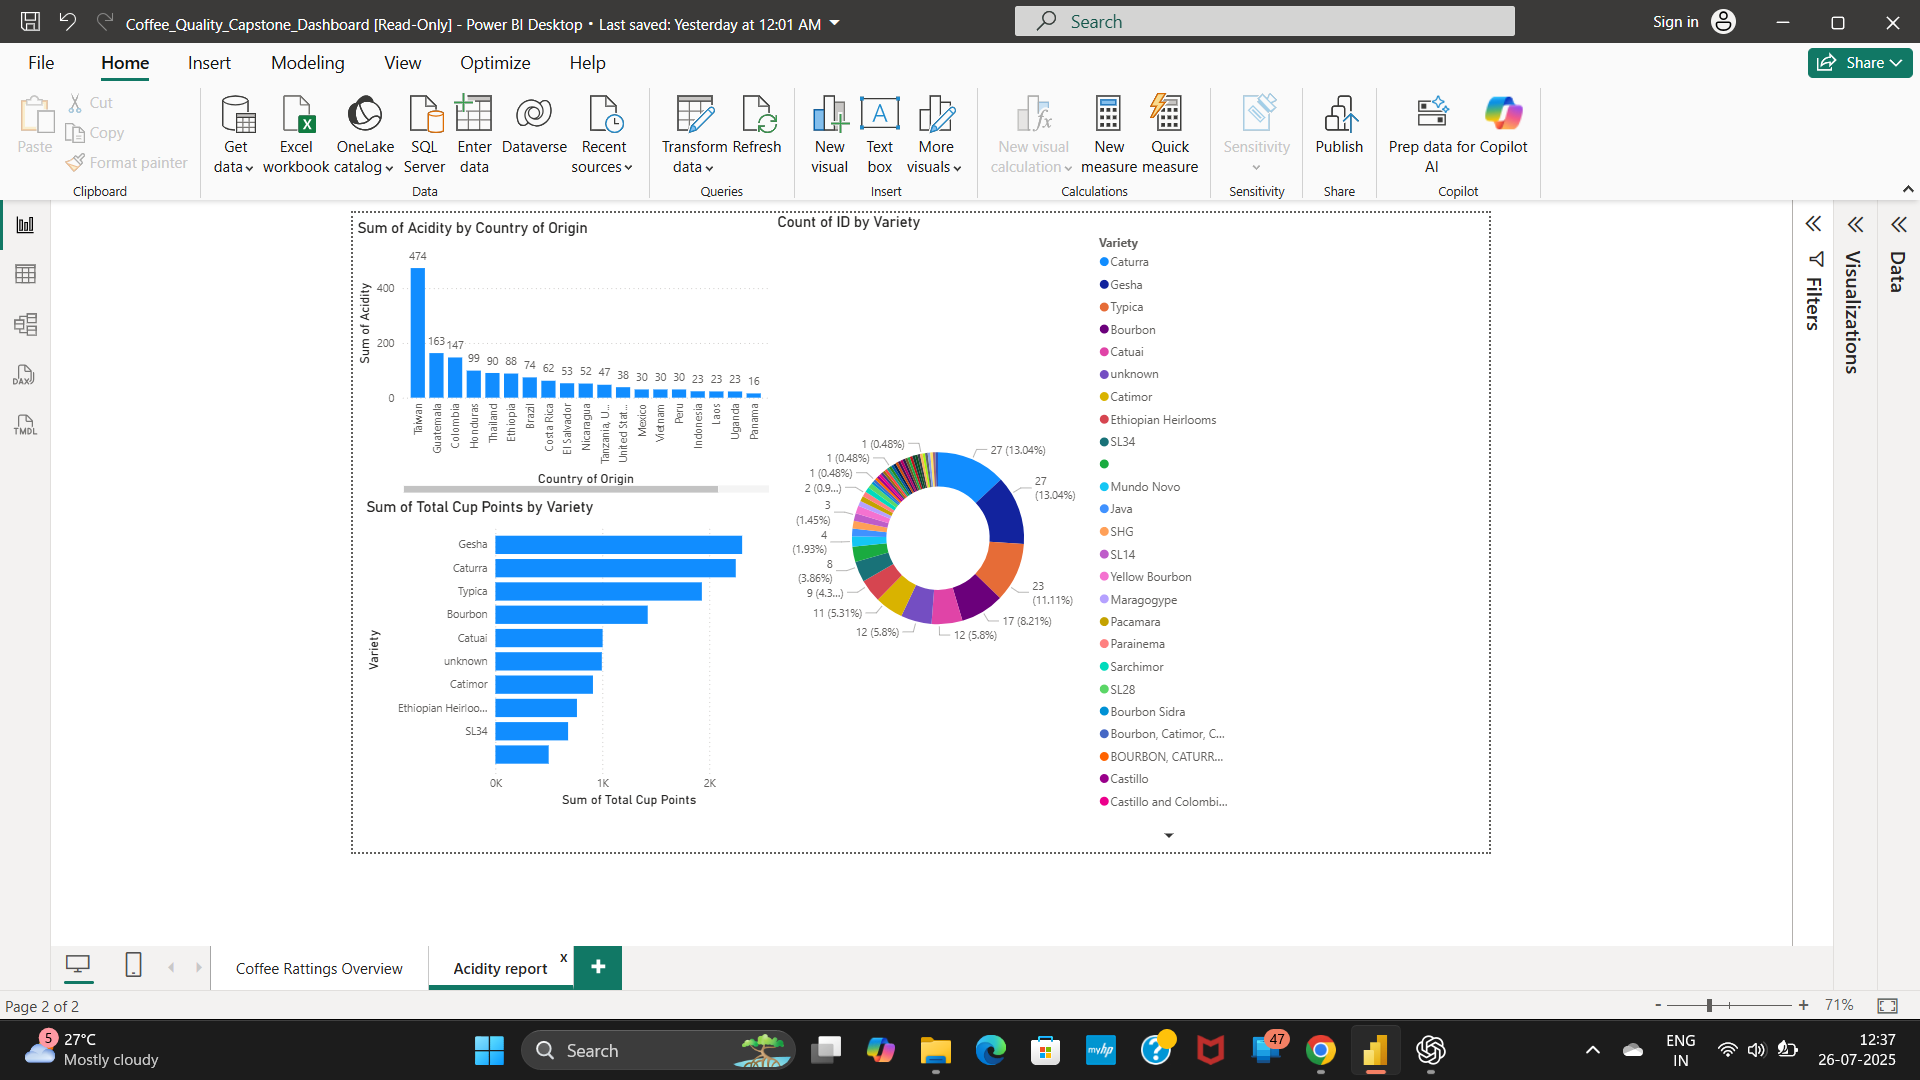

This screenshot's page, from the dashboard's own definition file:
{"tool":"powerbi","page":{"name":"Acidity report","canvas":[1280,720],"ordinal":1},"visuals":[{"type":"barChart","fields":{"Y":["Sum(df_arabica_clean.Total Cup Points)"],"Category":["df_arabica_clean.Variety"]},"box":[9.8,320.7,464.1,353.3],"z":0},{"type":"clusteredColumnChart","fields":{"Category":["df_arabica_clean.Country of Origin"],"Y":["Sum(df_arabica_clean.Acidity)"]},"box":[0,7.6,473.9,313],"z":1000},{"type":"donutChart","fields":{"Category":["df_arabica_clean.Variety"],"Y":["CountNonNull(df_arabica_clean.ID)"]},"box":[473.9,0,528.3,714.1],"z":2000}]}

Visuals, with their boxes on the page's 1280x720 design canvas (x1, y1, x2, y2). These are canvas units, not pixel positions in the 1920x1080 screenshot, which may show the page scaled, cropped or inside an application window:
barChart - Sum(df_arabica_clean.Total Cup Points) x df_arabica_clean.Variety: [10, 321, 474, 674]
clusteredColumnChart - df_arabica_clean.Country of Origin x Sum(df_arabica_clean.Acidity): [0, 8, 474, 321]
donutChart - df_arabica_clean.Variety x CountNonNull(df_arabica_clean.ID): [474, 0, 1002, 714]
